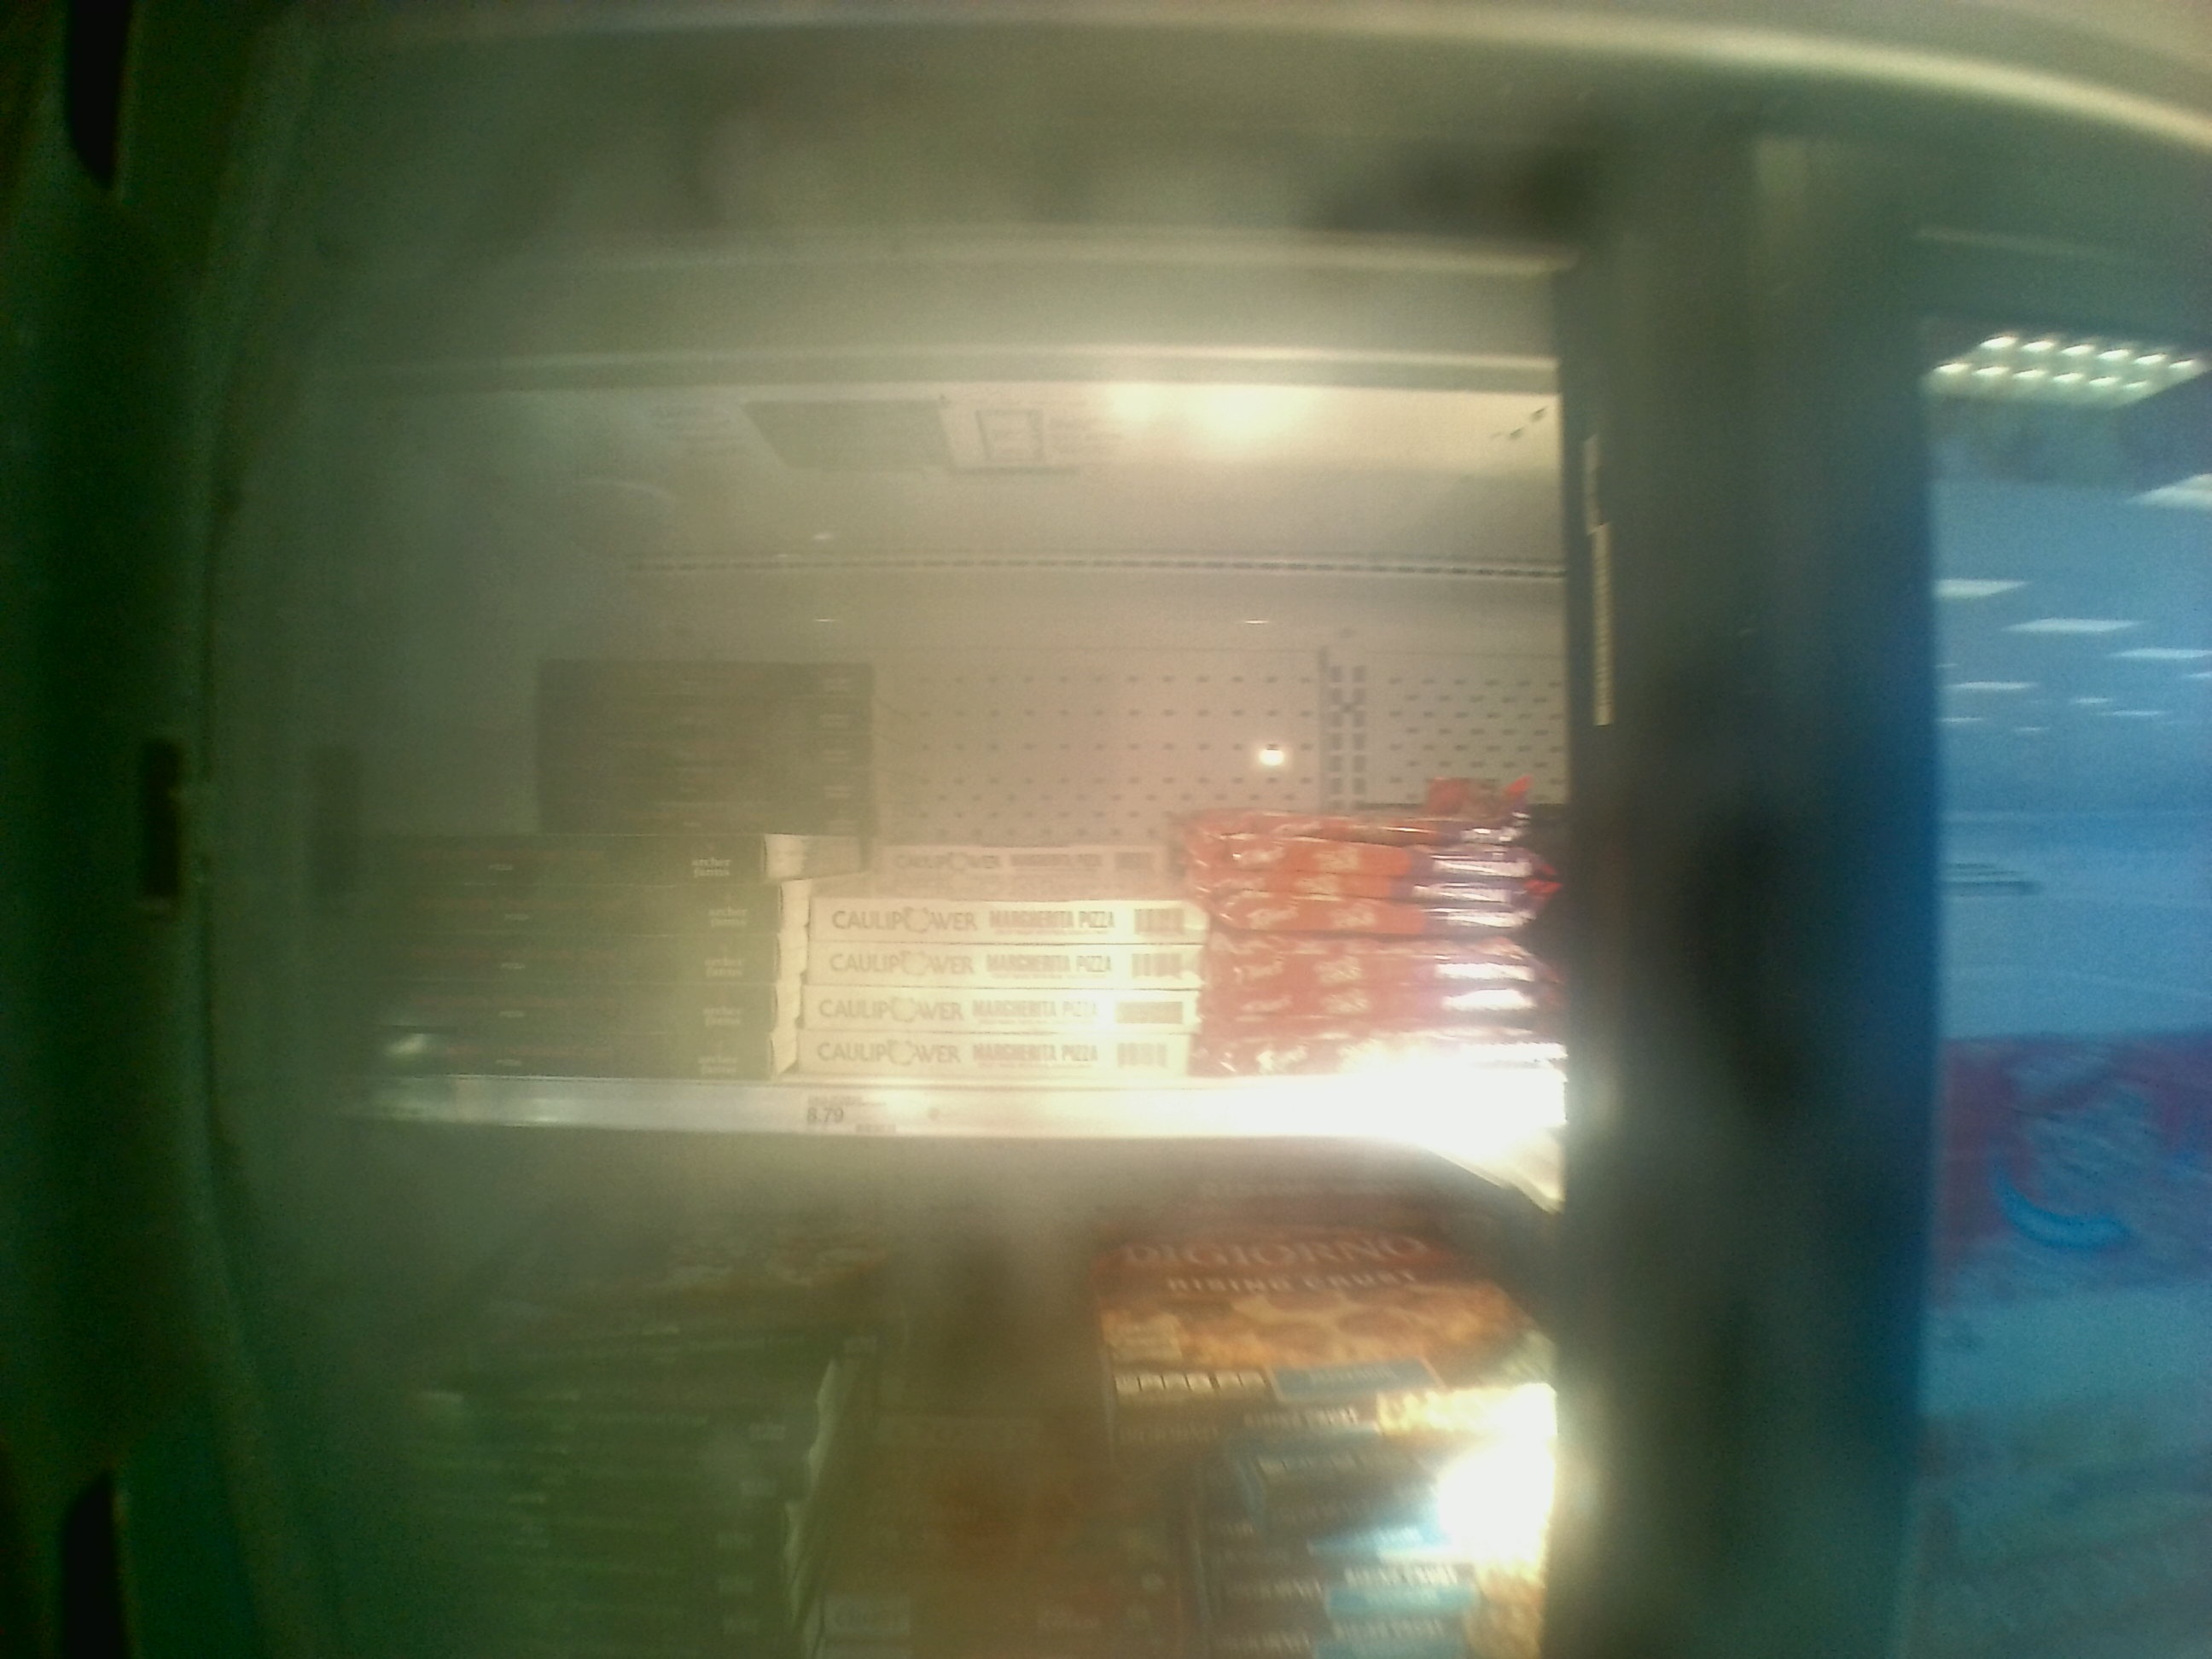pizza: (1085, 1225, 1557, 1410), (843, 1392, 1179, 1643), (482, 1199, 846, 1382), (366, 1446, 817, 1499), (392, 1387, 827, 1441), (787, 1028, 1188, 1084), (334, 1030, 773, 1075), (343, 978, 777, 1023), (347, 929, 777, 974), (350, 1563, 789, 1607), (798, 938, 1200, 985), (817, 894, 1191, 945), (1240, 1459, 1529, 1521), (540, 718, 873, 772), (366, 835, 773, 878), (361, 1513, 789, 1553), (361, 889, 777, 929), (533, 664, 867, 713), (813, 990, 1200, 1023), (350, 1617, 792, 1643), (528, 798, 867, 829), (1237, 1577, 1533, 1612), (902, 847, 1150, 880), (1216, 1624, 1533, 1643), (1211, 1544, 1538, 1561)
